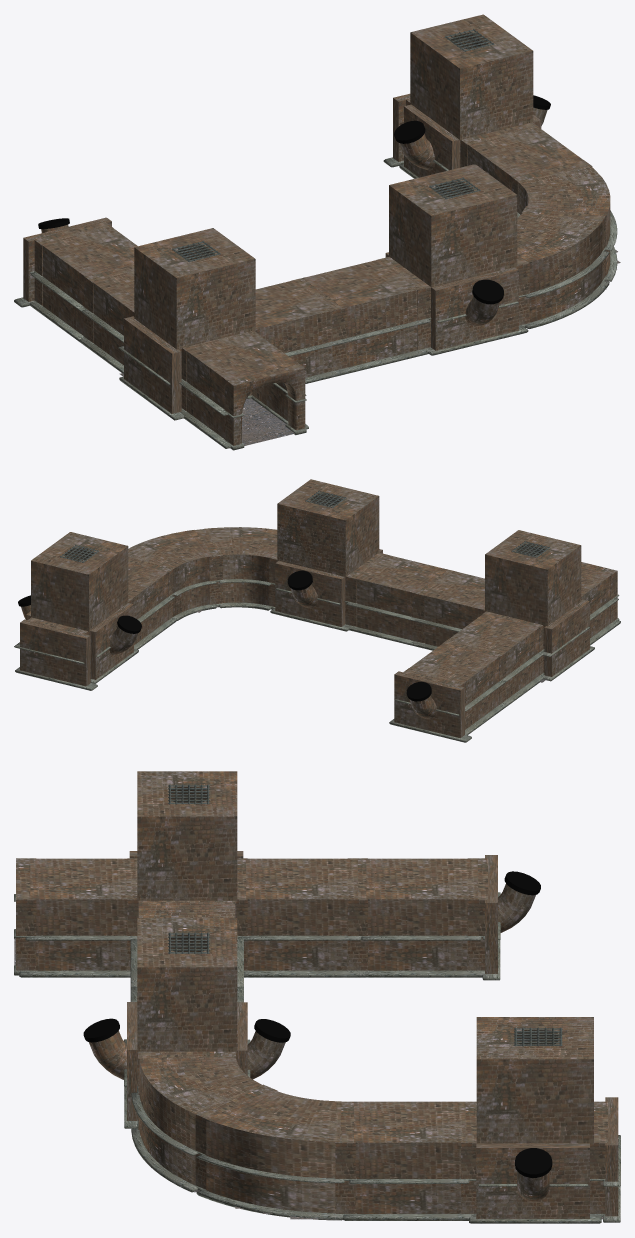
The model's file is sewer.obj.
3 views of the same model, one above another, from view 1: azimuth 30°, elevation 25°; view 2: azimuth 150°, elevation 25°; view 3: azimuth 270°, elevation 25° (orthographic). The views are drawn at different scales.
Parts seen in each view (by area): view 1: Box006, Box008, Box001, Line013, Line016, Line004, Line008, Line011, Box005, Line020, Line018, Box003 (+19 smaller); view 2: Box006, Box008, Box001, Line013, Line016, Line018, Box010, Line005, Line008, Line011, Box002, Box004 (+20 smaller); view 3: Box008, Line018, Box006, Box001, Line020, Line005, Line008, Line004, Line016, Box007, Line001, Line019 (+35 smaller).
Part boxes in pixels (x1=…): Box006: x1=389, y1=164, x2=517, y2=287; Box008: x1=410, y1=14, x2=533, y2=140; Box001: x1=134, y1=228, x2=255, y2=349; Line013: x1=302, y1=258, x2=424, y2=367; Line016: x1=517, y1=212, x2=602, y2=322; Line004: x1=183, y1=330, x2=298, y2=438; Line008: x1=38, y1=225, x2=137, y2=335; Line011: x1=255, y1=279, x2=338, y2=377; Box005: x1=431, y1=267, x2=518, y2=350; Line020: x1=466, y1=126, x2=583, y2=190; Line018: x1=517, y1=165, x2=610, y2=275; Box003: x1=124, y1=316, x2=181, y2=413; Box006: x1=277, y1=479, x2=379, y2=577; Box008: x1=31, y1=532, x2=128, y2=631; Box001: x1=485, y1=530, x2=581, y2=626; Line013: x1=351, y1=554, x2=447, y2=640; Line016: x1=204, y1=527, x2=277, y2=605; Line018: x1=128, y1=530, x2=212, y2=616; Box010: x1=20, y1=619, x2=90, y2=686; Line005: x1=446, y1=613, x2=539, y2=699; Line008: x1=406, y1=643, x2=499, y2=728; Line011: x1=419, y1=570, x2=484, y2=646; Box002: x1=394, y1=671, x2=464, y2=738; Box004: x1=275, y1=561, x2=345, y2=626; Box008: x1=476, y1=1017, x2=593, y2=1144; Line018: x1=206, y1=1089, x2=341, y2=1213; Box006: x1=137, y1=918, x2=237, y2=1052; Box001: x1=137, y1=771, x2=237, y2=901; Line020: x1=354, y1=1101, x2=465, y2=1213; Line005: x1=246, y1=858, x2=357, y2=970; Line008: x1=366, y1=858, x2=477, y2=970; Line004: x1=30, y1=858, x2=137, y2=970; Line016: x1=139, y1=1057, x2=264, y2=1185; Box007: x1=476, y1=1143, x2=589, y2=1218; Line001: x1=16, y1=858, x2=36, y2=970; Line019: x1=335, y1=1101, x2=355, y2=1213.
Size of the model in its own units: 17.88 by 4.31 by 14.49.
5 materials, 4 textured.
